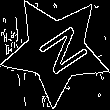N_SW: (25, 20, 87, 81)
